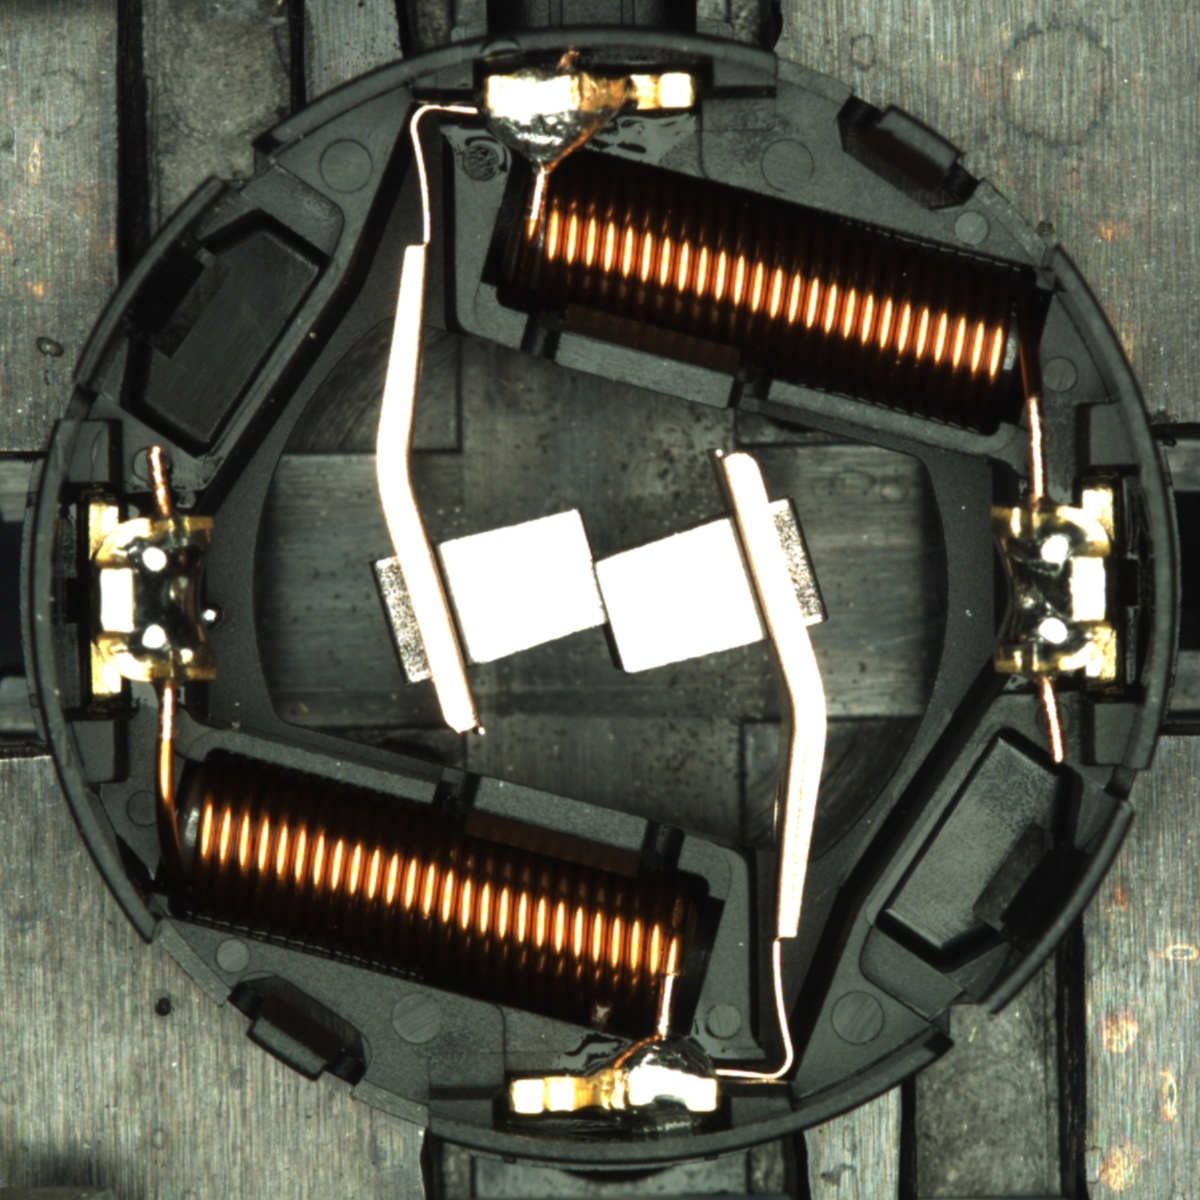1: (254, 30, 482, 255), (712, 927, 942, 1152)
2: (712, 30, 942, 255), (254, 927, 482, 1152)
3: (24, 255, 254, 479), (942, 703, 1170, 927)
4: (712, 703, 942, 927), (254, 255, 482, 479)
5: (482, 142, 712, 367), (482, 815, 712, 1040)
6: (712, 255, 942, 479), (254, 703, 482, 927)
7: (24, 703, 254, 927), (942, 255, 1170, 479)
bui_chi: (196, 602, 224, 631)
cacbon: (398, 496, 797, 686)
chau_dien: (81, 498, 221, 698), (984, 486, 1123, 685)
tay_choi: (484, 68, 699, 173), (509, 1027, 722, 1119)
thanh_de: (955, 786, 1142, 1031), (60, 164, 244, 404)
